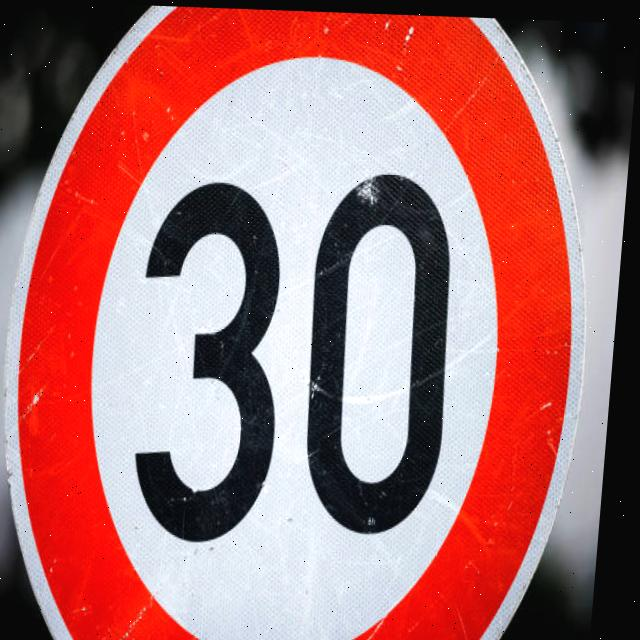Speed limit 30: (1, 5, 613, 640)
